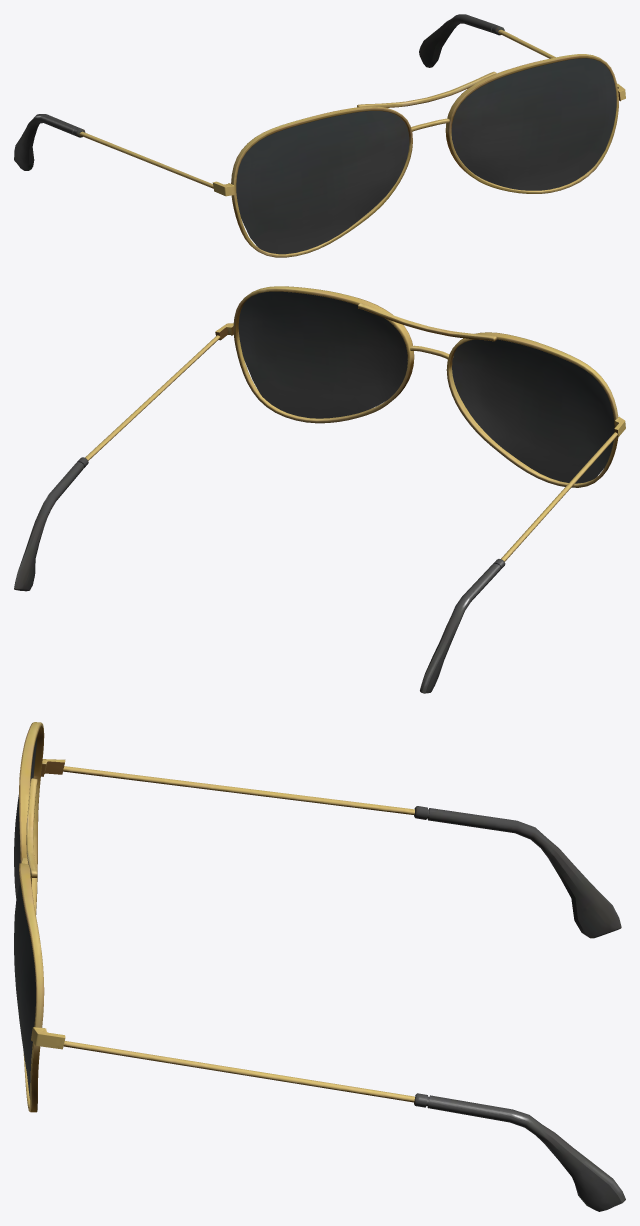
Rendered from aviators.glb.
3 views of the same model, one above another, from view 1: azimuth 30°, elevation 25°; view 2: azimuth 150°, elevation 25°; view 3: azimuth 270°, elevation 25° (orthographic). The views are drawn at different scales.
Visible parts, largest first — view 1: polySurface2_blinn1_0; view 2: polySurface2_blinn1_0; view 3: polySurface2_blinn1_0.
Boxes of the visible parts, x1,y1,x2,y2 form: polySurface2_blinn1_0: (14, 14, 625, 257); polySurface2_blinn1_0: (14, 286, 625, 693); polySurface2_blinn1_0: (14, 722, 625, 1211).
Size of the model in its own units: 0.00339 by 0.00136 by 0.00298.
1 material, 1 textured.
